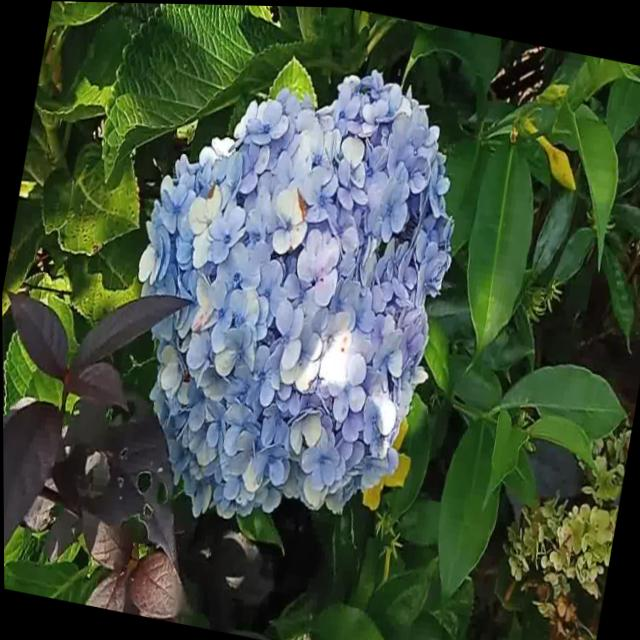Flower: (98, 19, 484, 558)
